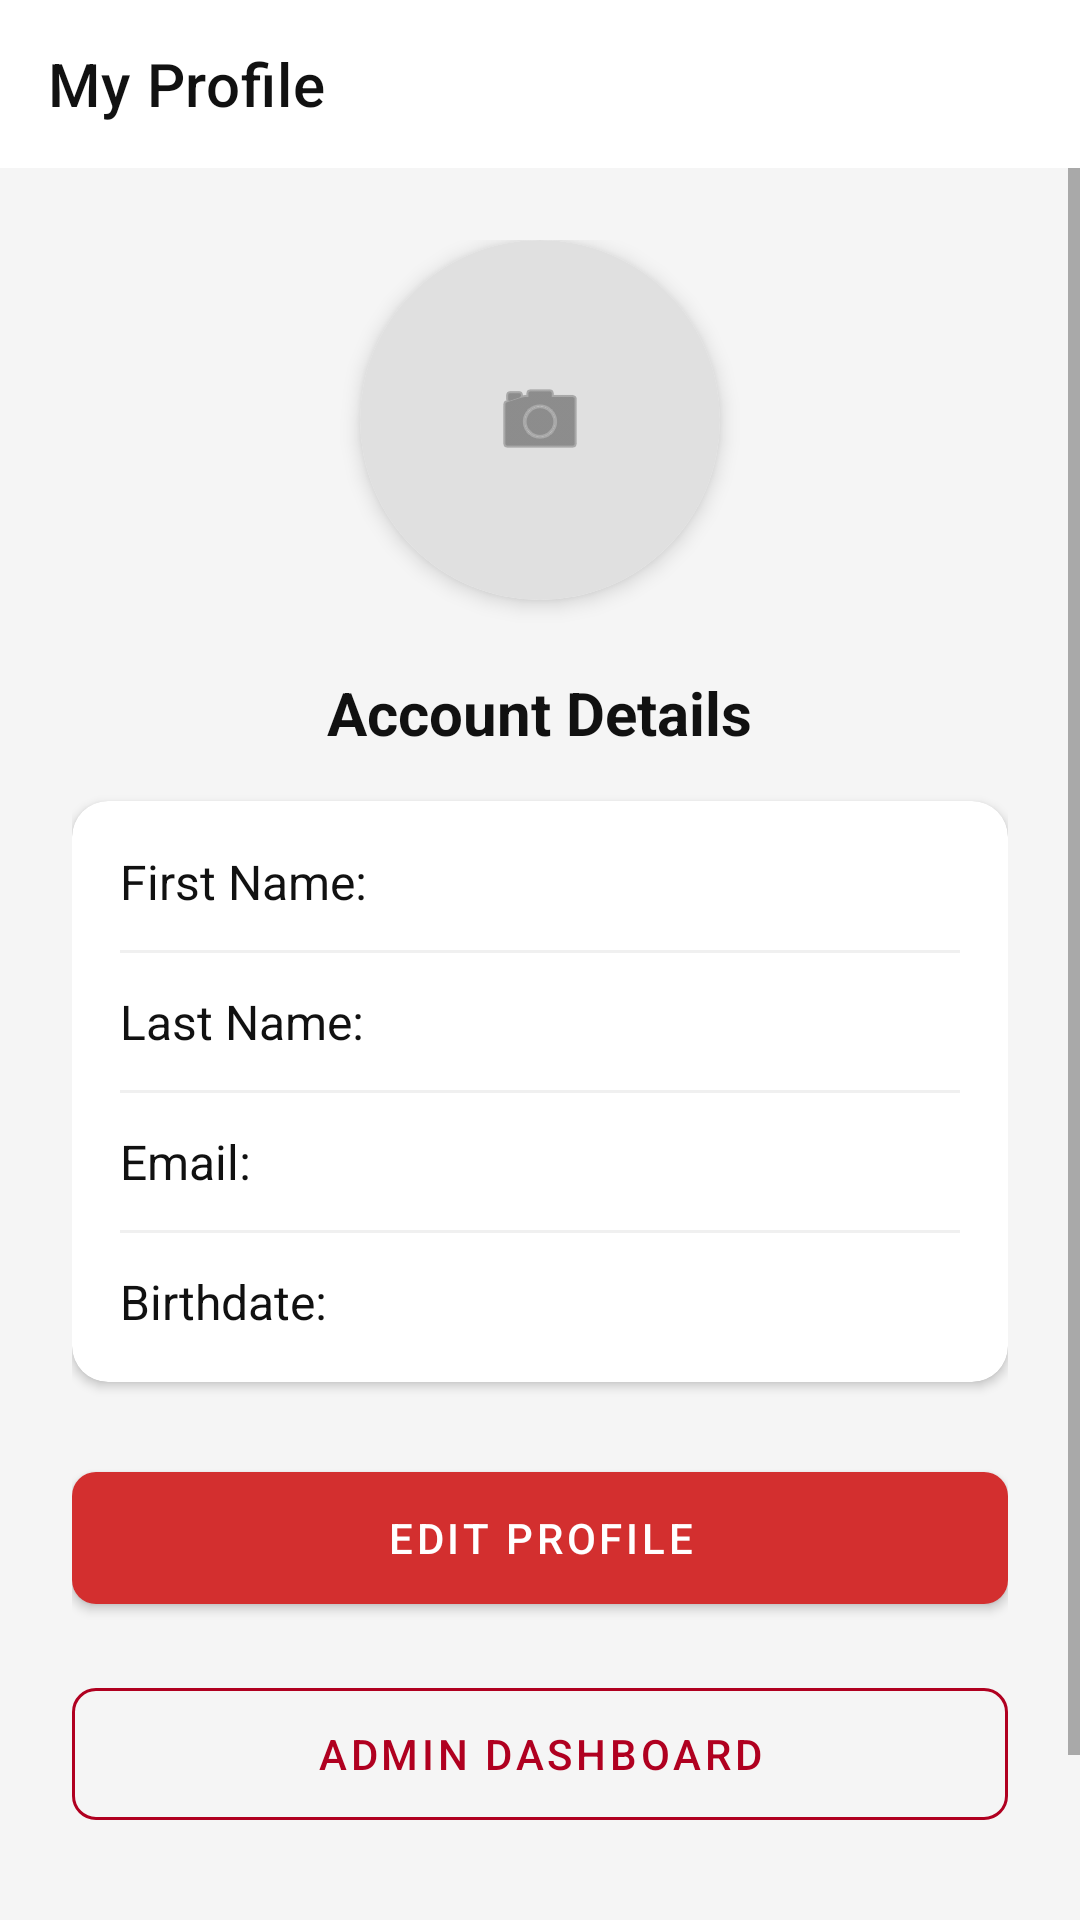

Screen size 1080 x 1920. Icon name, then its box in pixels as (x1, y1, x2, y2):
camera: (360, 240, 720, 600)
